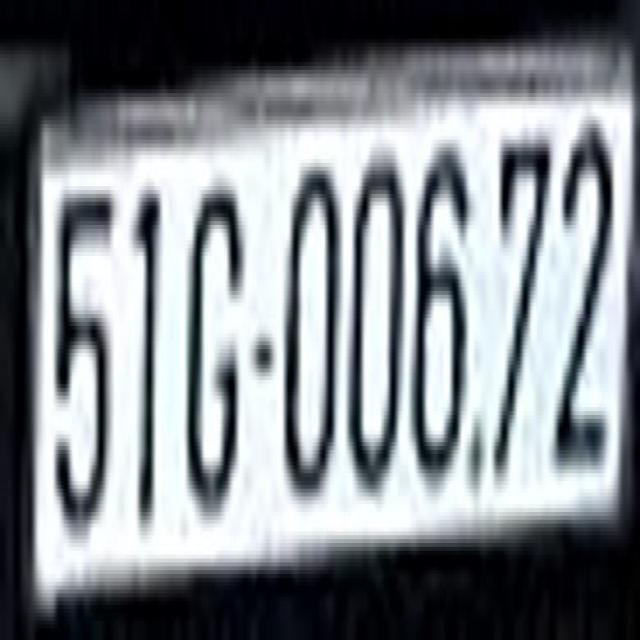0: (280, 147, 336, 489), (352, 167, 400, 481)
1: (127, 163, 159, 524)
2: (556, 140, 613, 473)
5: (56, 182, 108, 520)
6: (412, 132, 468, 492)
7: (494, 147, 548, 489)
G: (190, 174, 238, 500)
